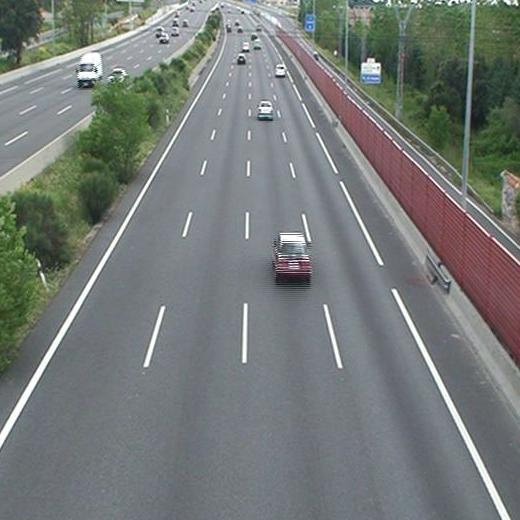car: (274, 233, 311, 279), (258, 102, 272, 119), (274, 65, 285, 77), (237, 55, 245, 63), (242, 42, 248, 50)
van: (253, 40, 261, 50)
